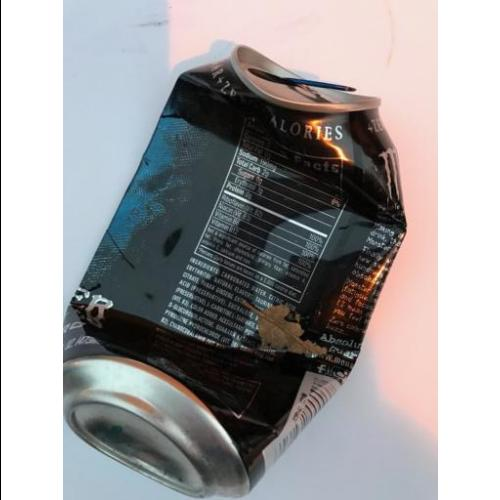metal: (69, 42, 407, 498)
